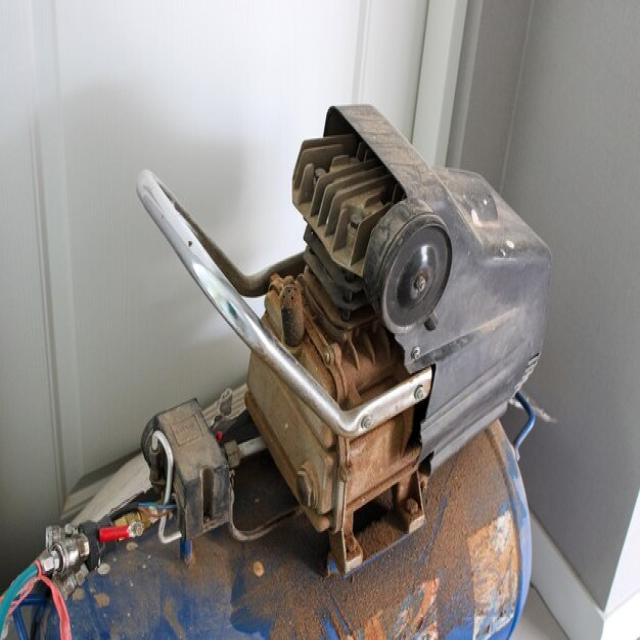compressor: (1, 100, 554, 638)
